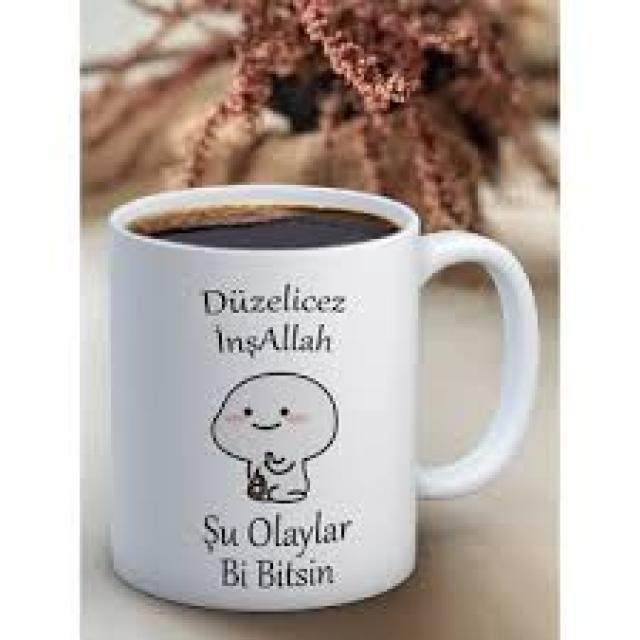taza: (108, 182, 542, 612)
